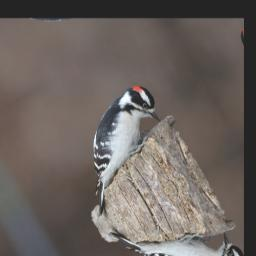Woodpecker: (48, 78, 195, 219)
